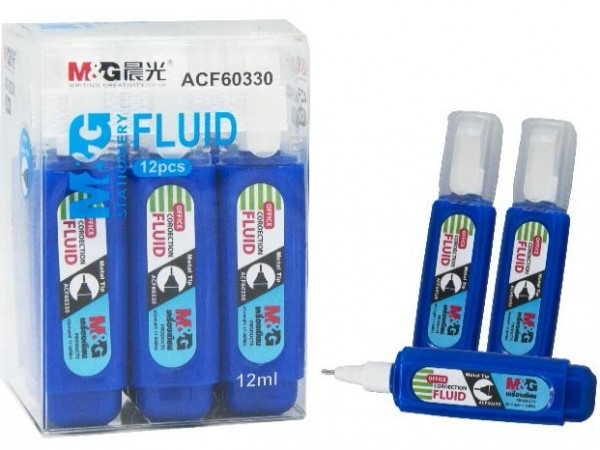Correction_fluid: (30, 36, 132, 428), (120, 44, 218, 424), (216, 41, 309, 422), (407, 107, 506, 354), (317, 345, 600, 431), (486, 113, 579, 359)
